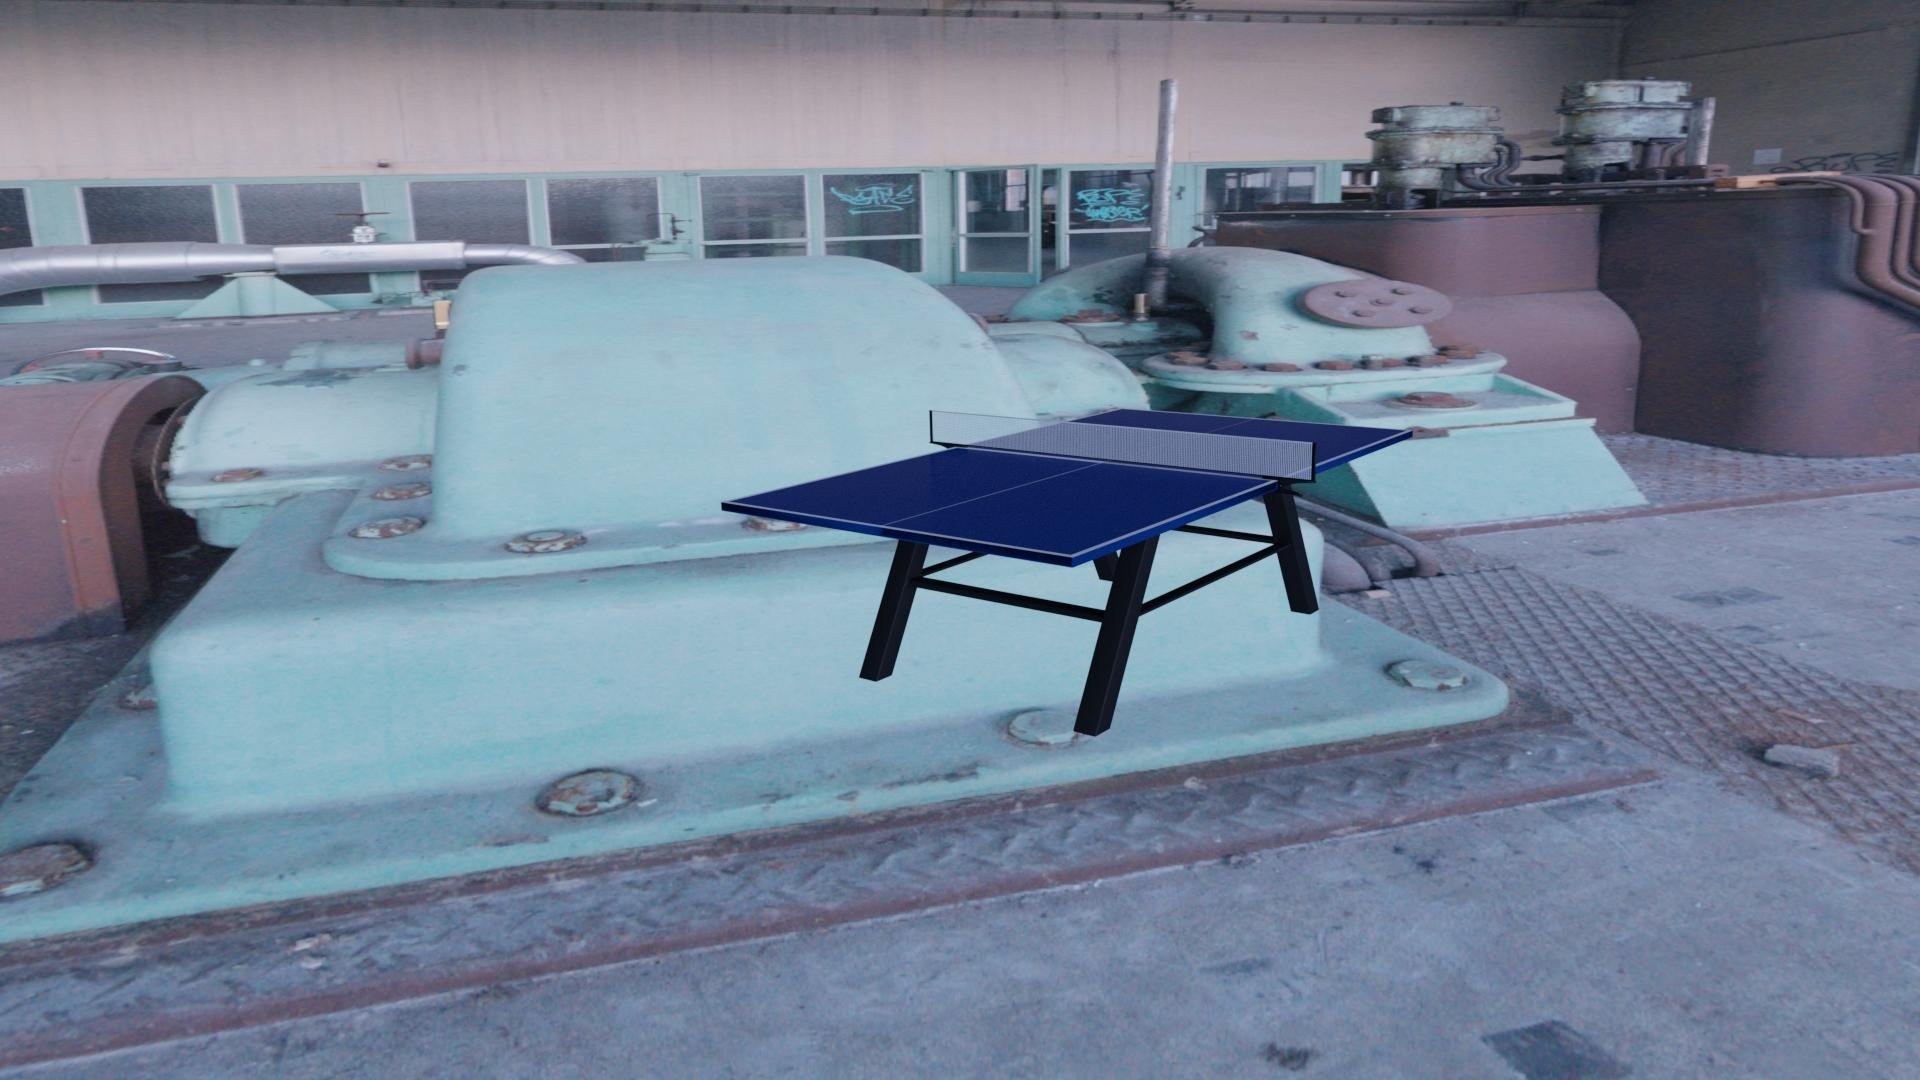table: (728, 409, 1407, 555)
